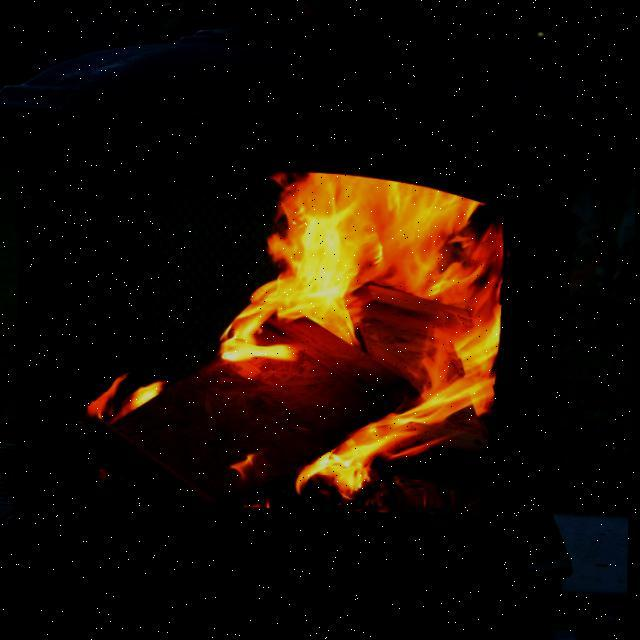Fire: (90, 150, 503, 514)
